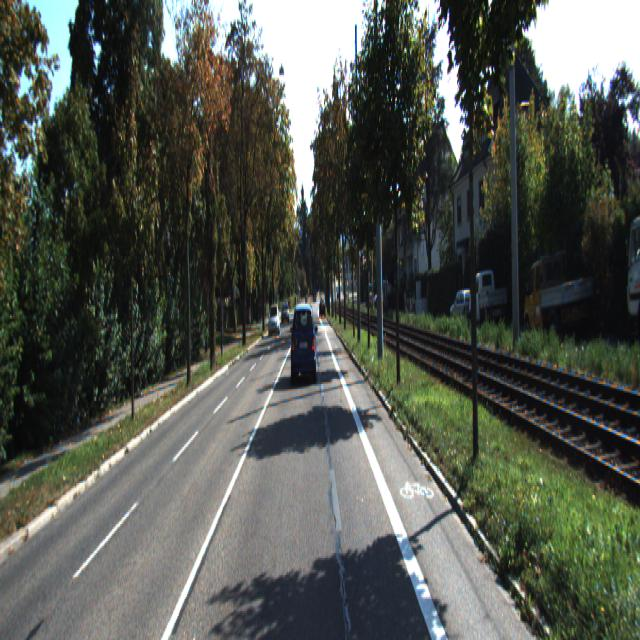Car: (522, 247, 594, 341), (290, 300, 318, 386), (468, 266, 506, 324), (625, 207, 640, 349), (450, 287, 478, 326), (268, 304, 280, 338)
